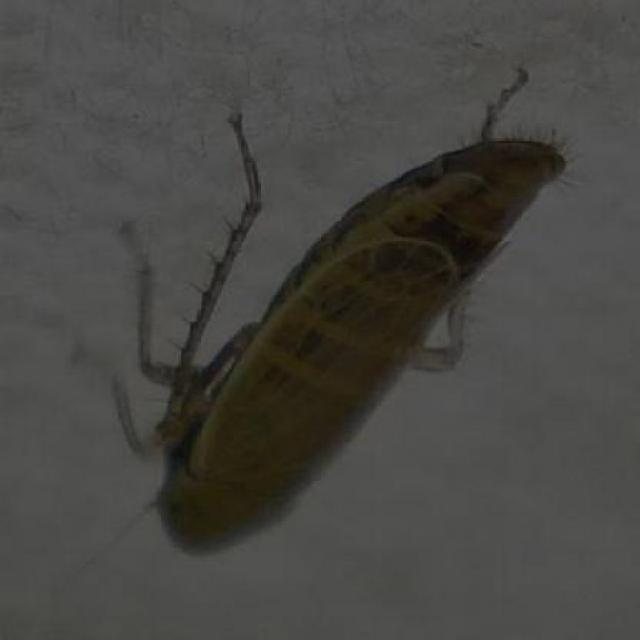green-leafhopper: (131, 90, 555, 552)
